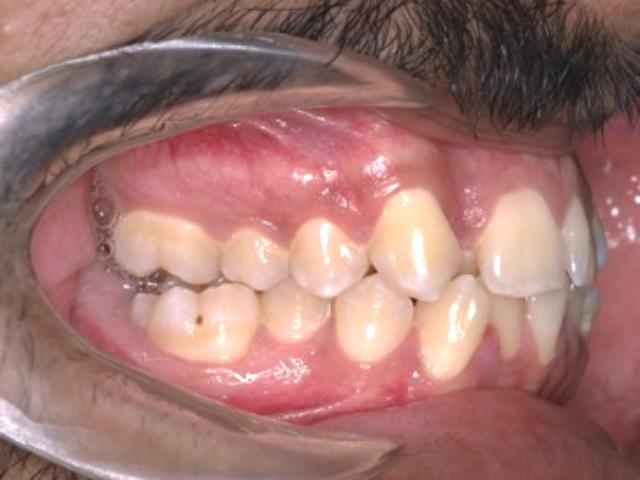canine class II 1/4: (331, 183, 494, 407)
molar class I: (105, 197, 263, 371)
